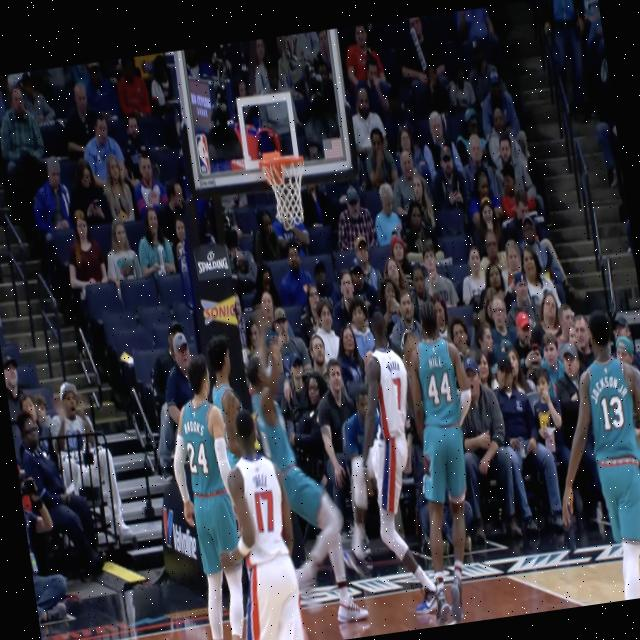no foul: (160, 333, 309, 640), (213, 404, 316, 640)
